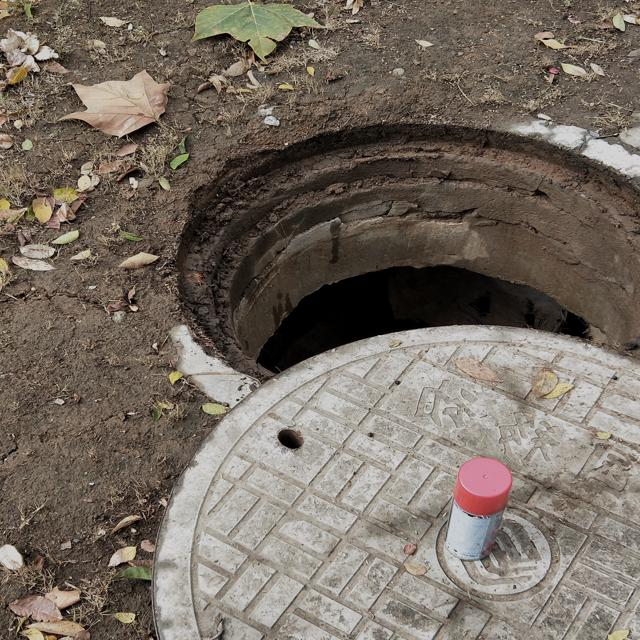uncovered: (155, 115, 640, 640)
